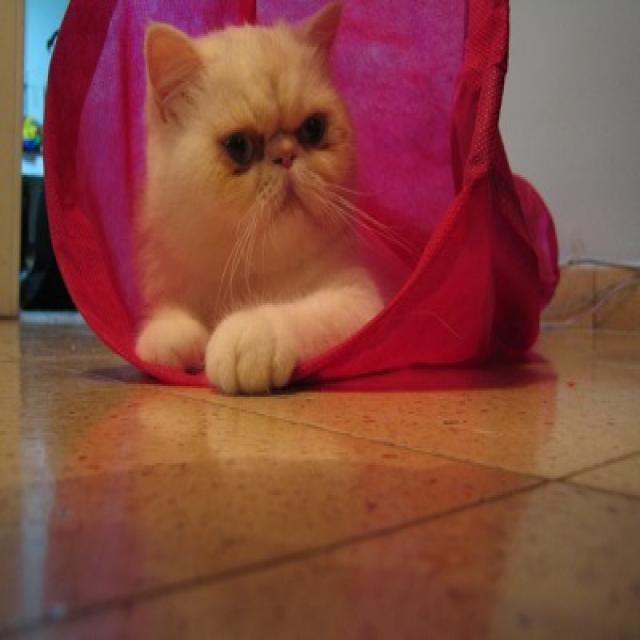left eye: (296, 109, 328, 147)
